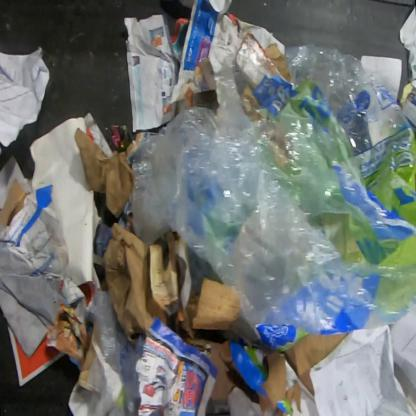cardboard: (182, 325, 350, 415), (103, 221, 169, 342), (199, 10, 290, 90), (73, 127, 134, 219), (172, 277, 240, 340), (0, 176, 28, 233)
soft_plastic: (124, 43, 416, 344), (83, 286, 146, 415)
